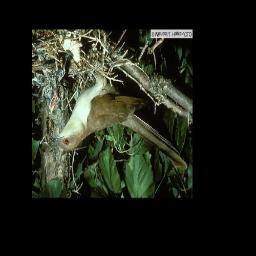Cuckoo: (49, 73, 187, 171)
